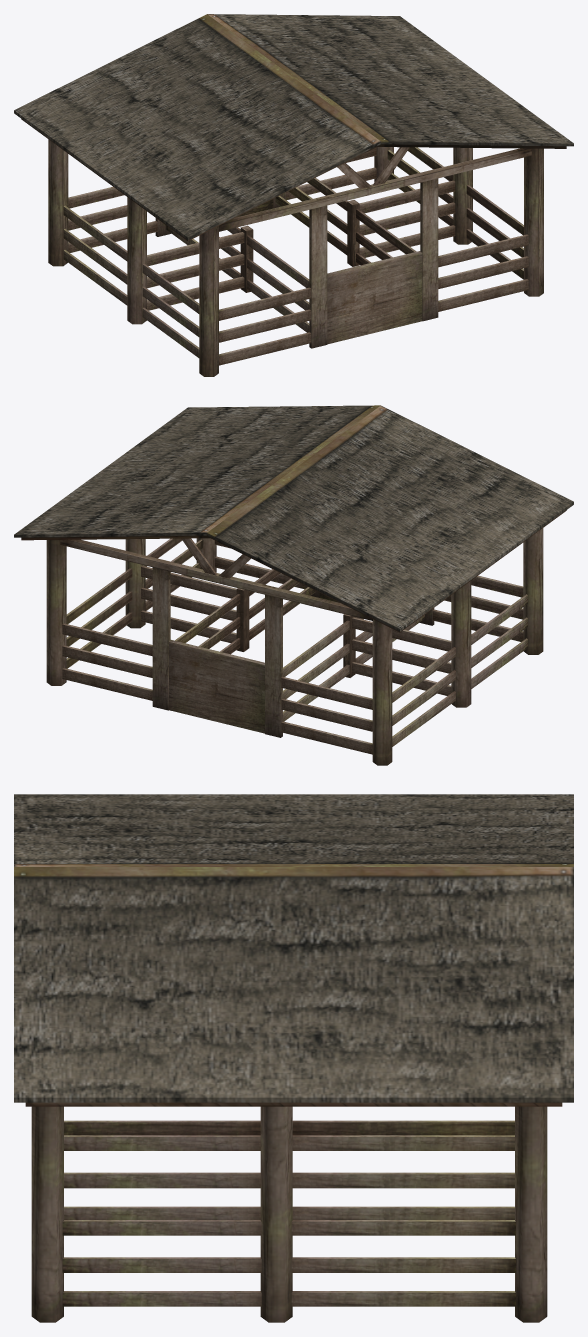
Rendered from Croft.fbx.
3 renders of one model, top to bottom at view 1: azimuth 30°, elevation 25°; view 2: azimuth 150°, elevation 25°; view 3: azimuth 270°, elevation 25°, orthographic. The views are drawn at different scales.
Visible parts, largest first — view 1: Croft; view 2: Croft; view 3: Croft.
Boxes of the visible parts, bbox=[...] form: Croft: bbox=[14, 14, 573, 376]; Croft: bbox=[14, 405, 573, 765]; Croft: bbox=[14, 794, 573, 1322].
Bounding box in the file's own units: 585 × 289 × 456.
